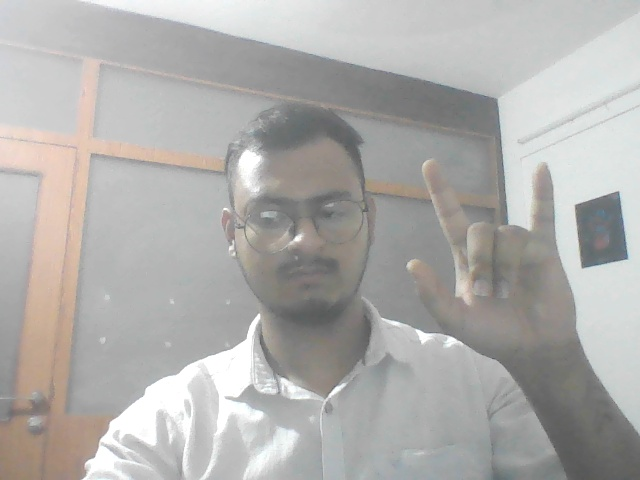I Love You: (398, 153, 592, 361)
